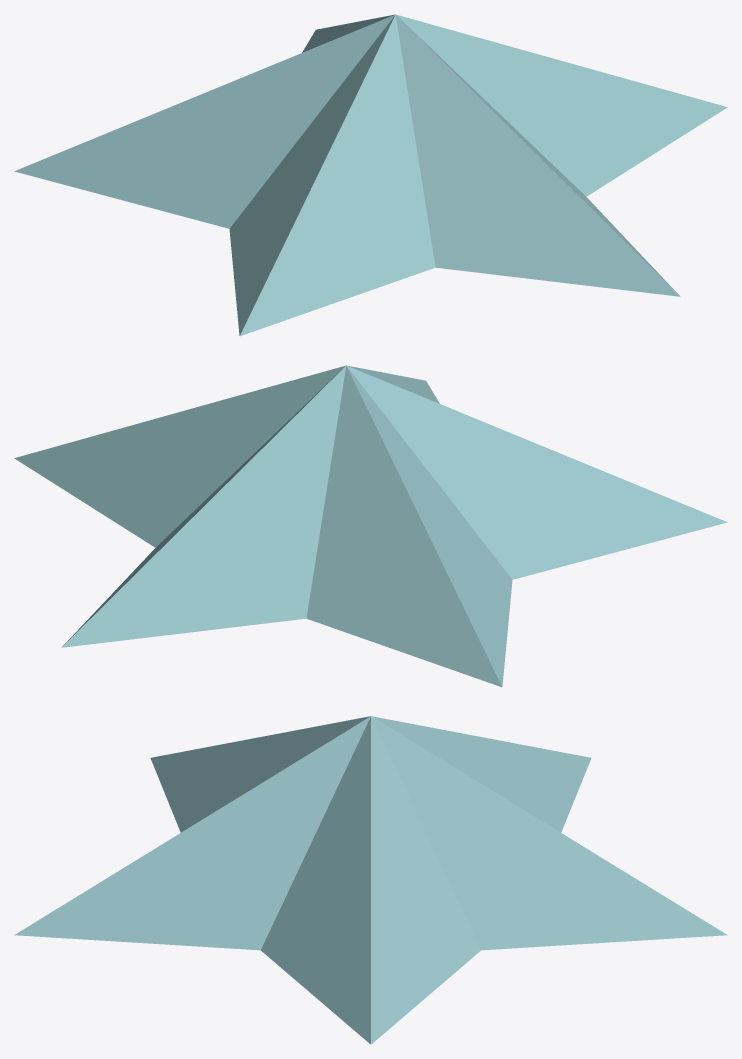
The model's file is target.glb.
The picture shows the model from 3 angles, top to bottom: view 1: azimuth 30°, elevation 25°; view 2: azimuth 150°, elevation 25°; view 3: azimuth 270°, elevation 25°; orthographic projection. The views are drawn at different scales.
Visible parts, largest first — view 1: Mesh_Mesh_head_geo.001_lambert2SG.001; view 2: Mesh_Mesh_head_geo.001_lambert2SG.001; view 3: Mesh_Mesh_head_geo.001_lambert2SG.001.
Boxes of the visible parts, left/top/right/bottom form: Mesh_Mesh_head_geo.001_lambert2SG.001: left=14, top=14, right=727, bottom=336; Mesh_Mesh_head_geo.001_lambert2SG.001: left=14, top=365, right=727, bottom=687; Mesh_Mesh_head_geo.001_lambert2SG.001: left=14, top=716, right=727, bottom=1044.
Bounding box in the file's own units: 36.18 × 10 × 38.04.
